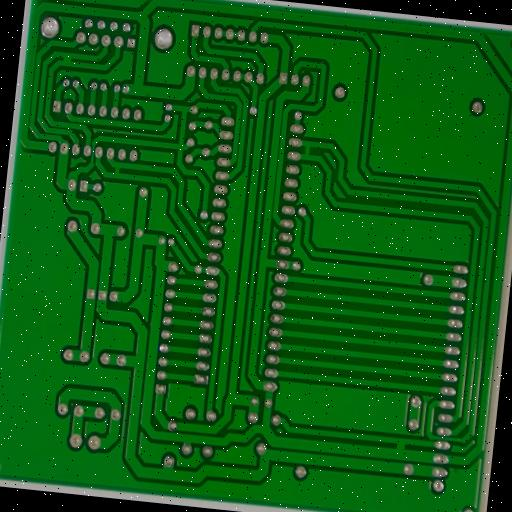short_circuit: (390, 436, 414, 460), (299, 139, 319, 163), (56, 50, 78, 70), (108, 162, 126, 182)
